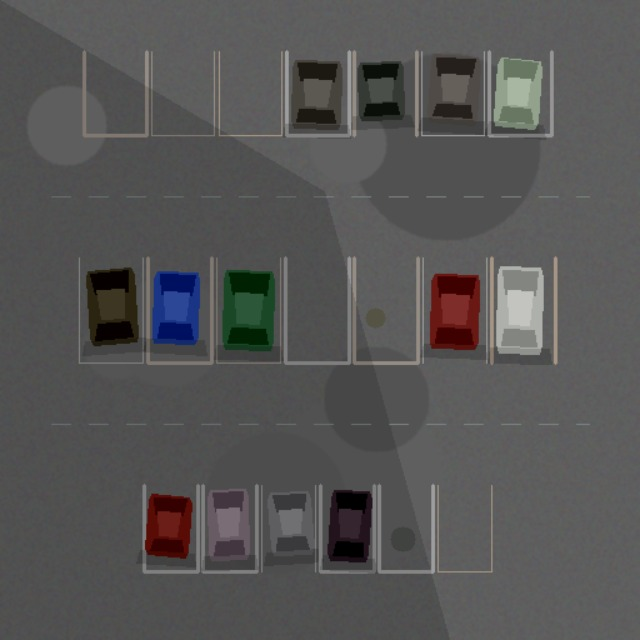space-empty: (285, 258, 349, 362), (354, 258, 417, 362), (151, 51, 214, 135), (84, 51, 146, 135), (219, 51, 281, 135), (379, 485, 432, 571), (438, 485, 491, 571)
space-occupied: (79, 258, 143, 362), (147, 258, 211, 362), (216, 258, 280, 362), (491, 258, 555, 362), (423, 258, 486, 362), (286, 51, 349, 135), (421, 51, 484, 135), (354, 51, 416, 135), (489, 51, 551, 135), (144, 485, 198, 571), (202, 485, 256, 571), (261, 485, 315, 571), (320, 485, 374, 571)
